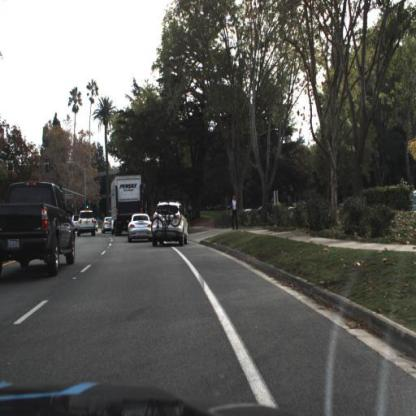car: (1, 178, 77, 280), (150, 201, 189, 245), (126, 212, 155, 243), (76, 208, 97, 239), (77, 209, 99, 237), (101, 213, 115, 233)
pedestrian: (232, 192, 241, 228), (230, 193, 238, 231)
truck: (110, 175, 144, 237)
